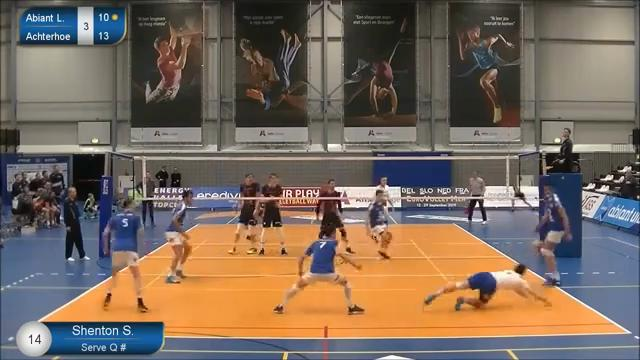Dig: (419, 262, 556, 312)
Player: (274, 223, 363, 314), (103, 199, 147, 312), (534, 185, 571, 285), (315, 179, 354, 253), (166, 190, 192, 283), (259, 173, 286, 254), (365, 189, 391, 258), (228, 199, 259, 254), (376, 177, 392, 209)
ball: (539, 274, 554, 289), (530, 238, 544, 251)
